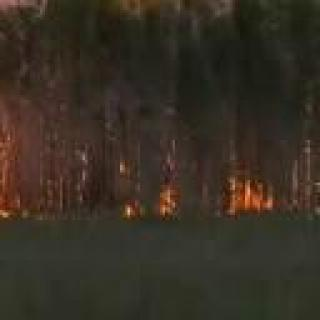fire: (120, 187, 177, 217), (228, 179, 273, 209)
